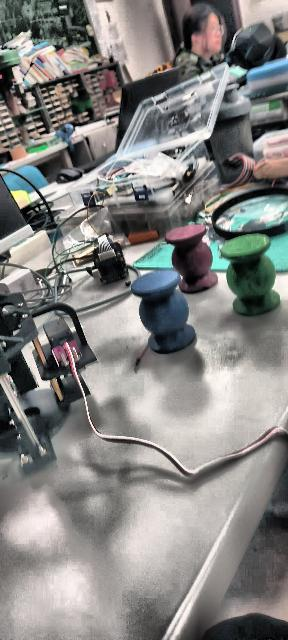blue: (130, 268, 196, 354)
green: (222, 230, 282, 316)
red: (161, 223, 222, 293)
